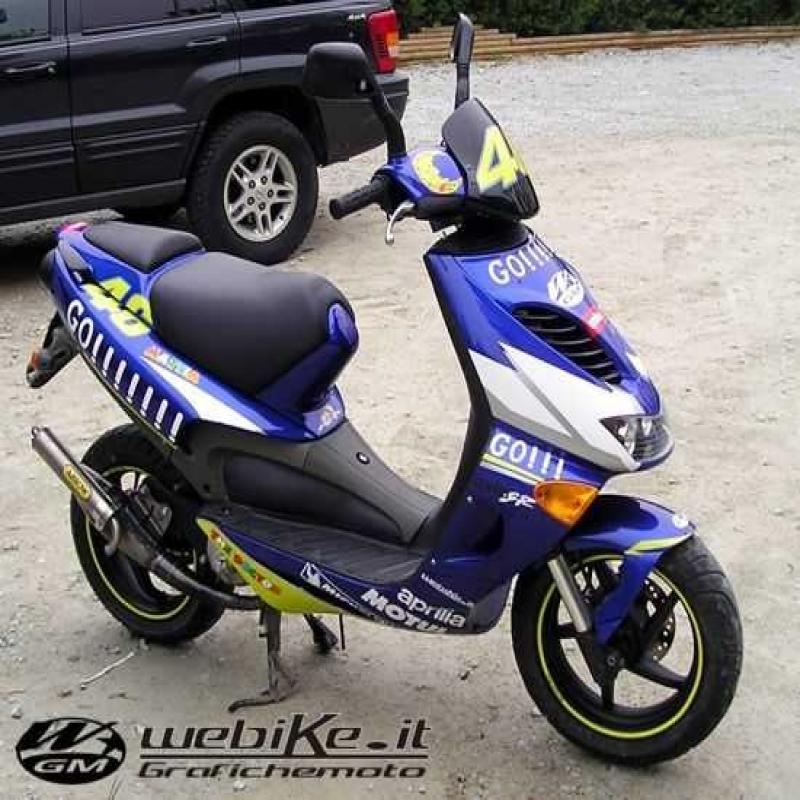bike: (24, 28, 752, 757)
